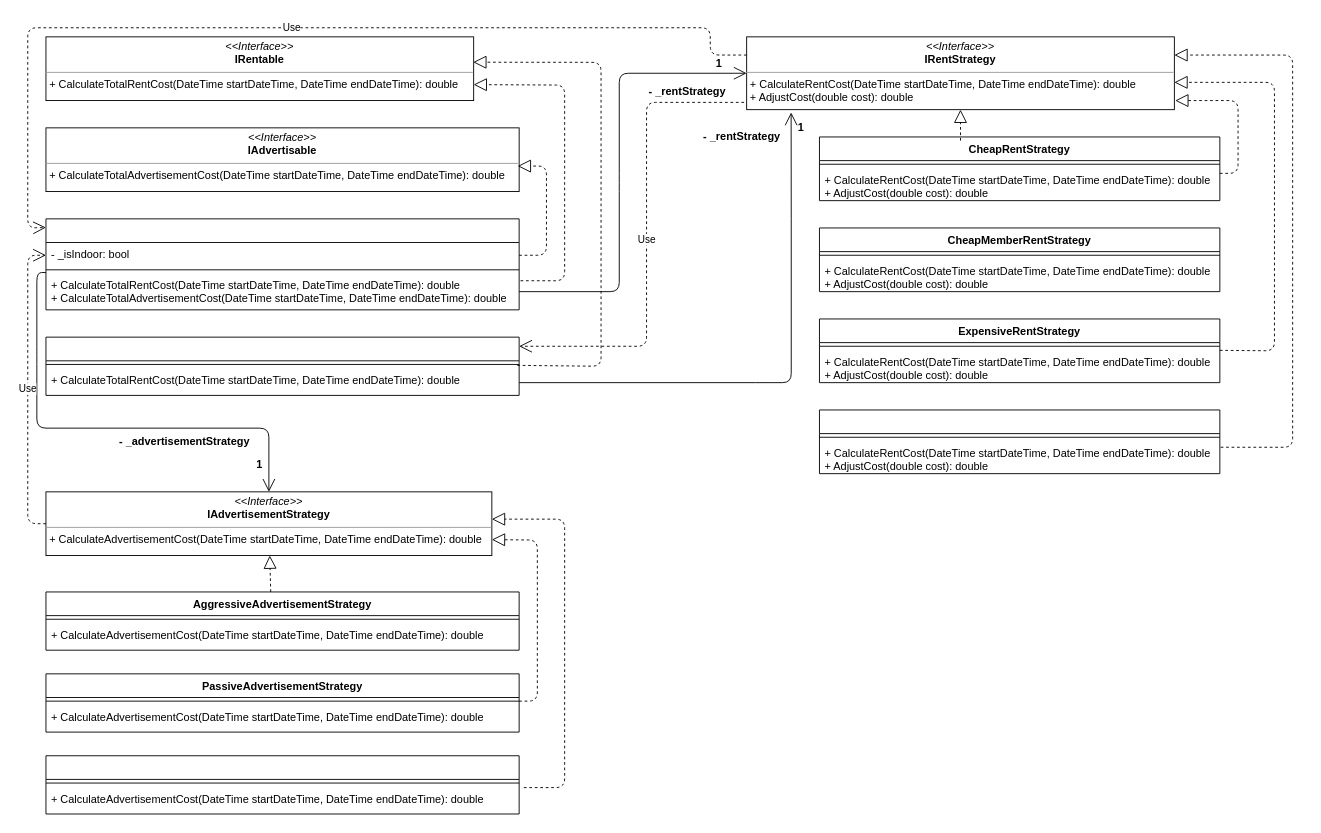
This 1321x833 diagram has some shape labels left out. The box of each missing label's shape, as (x1, y1, x2, y2) in pixels:
ExpensiveMemberRentStrategy: (819, 409, 1220, 474)
Hall: (45, 218, 519, 310)
Inventory: (45, 336, 519, 395)
NoAdvertisementStrategy: (45, 755, 519, 814)
